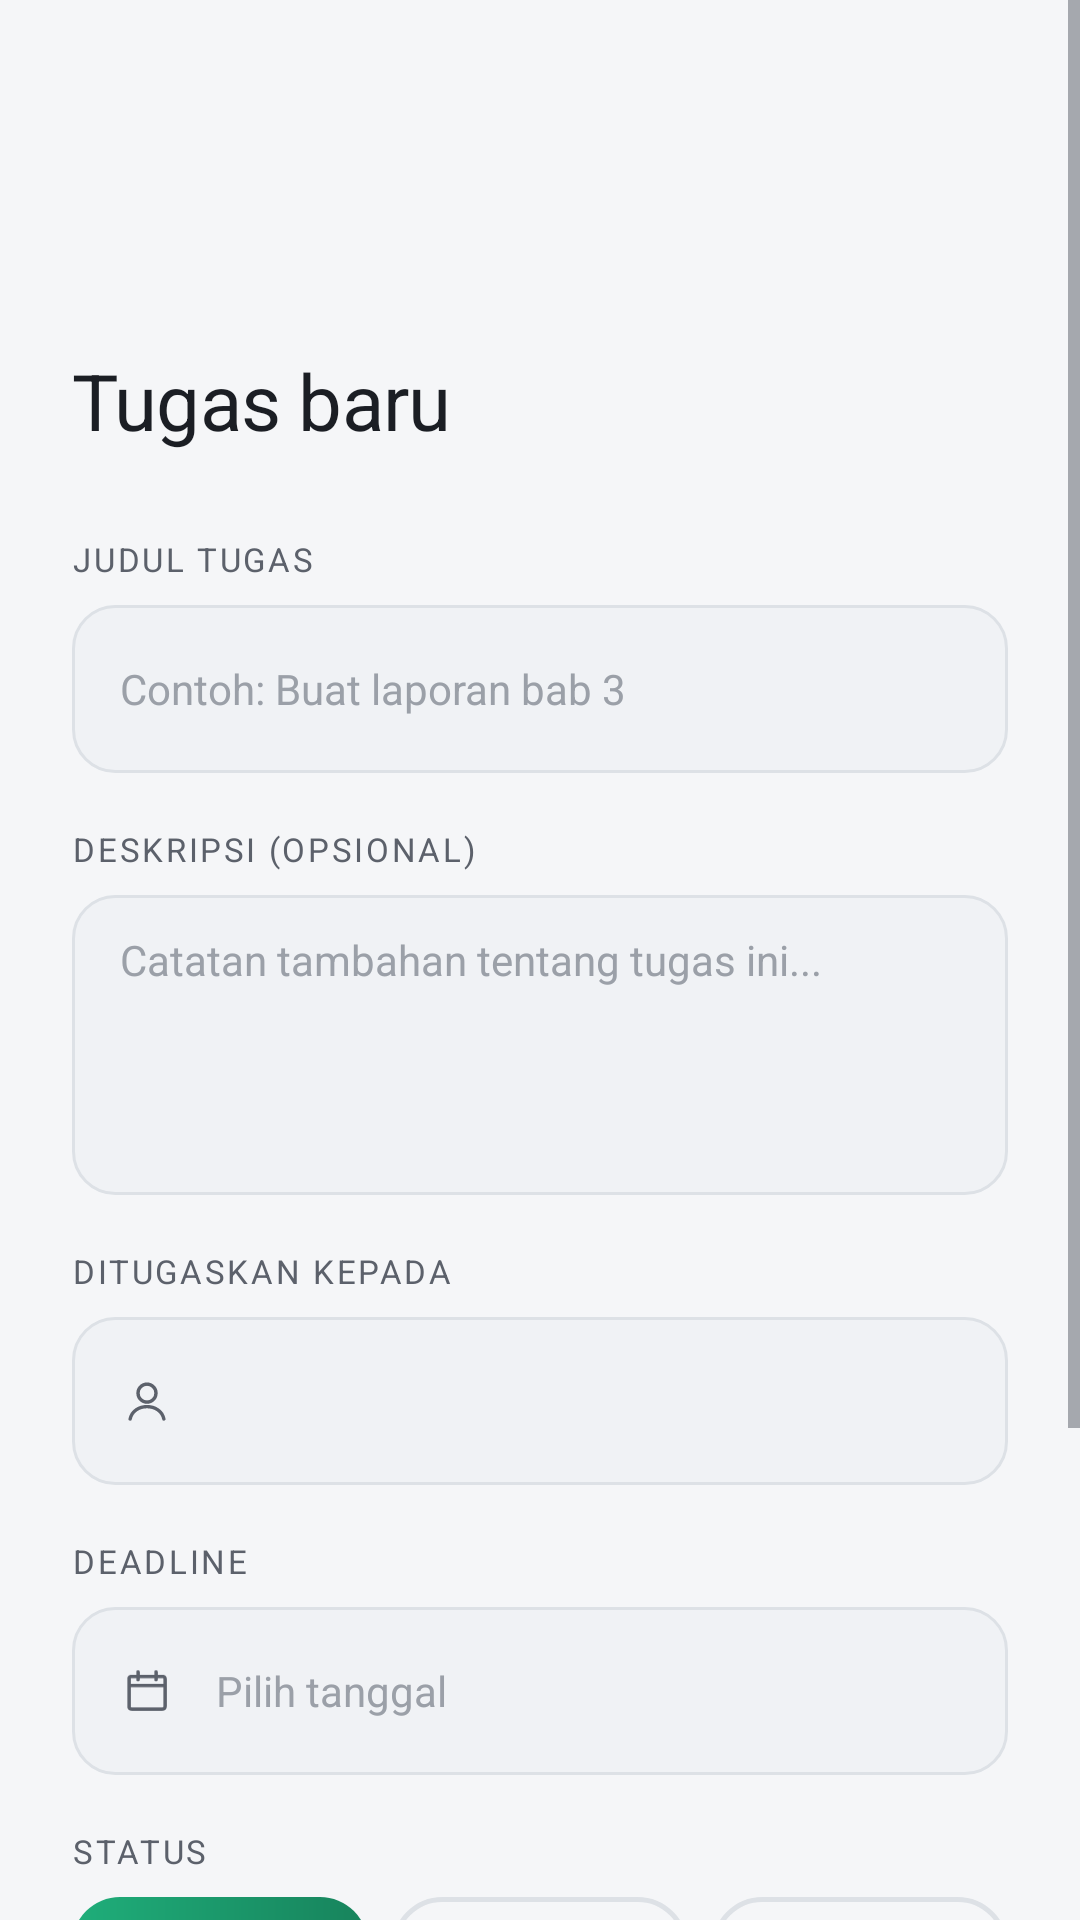

Icons on this 1080px x 1920px Android screen, each with the point to tap as point (x, y):
calendar: point (147, 1690)
person: point (147, 1401)
